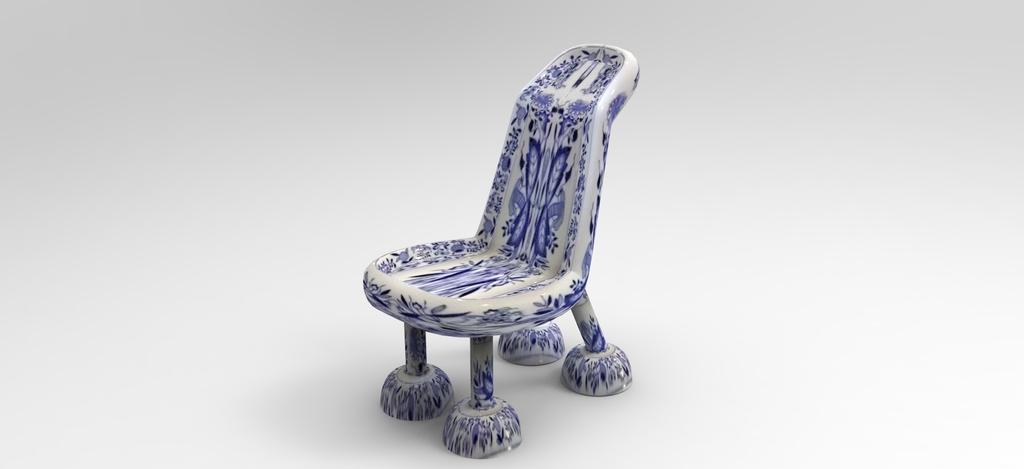Chair: (353, 50, 654, 469)
